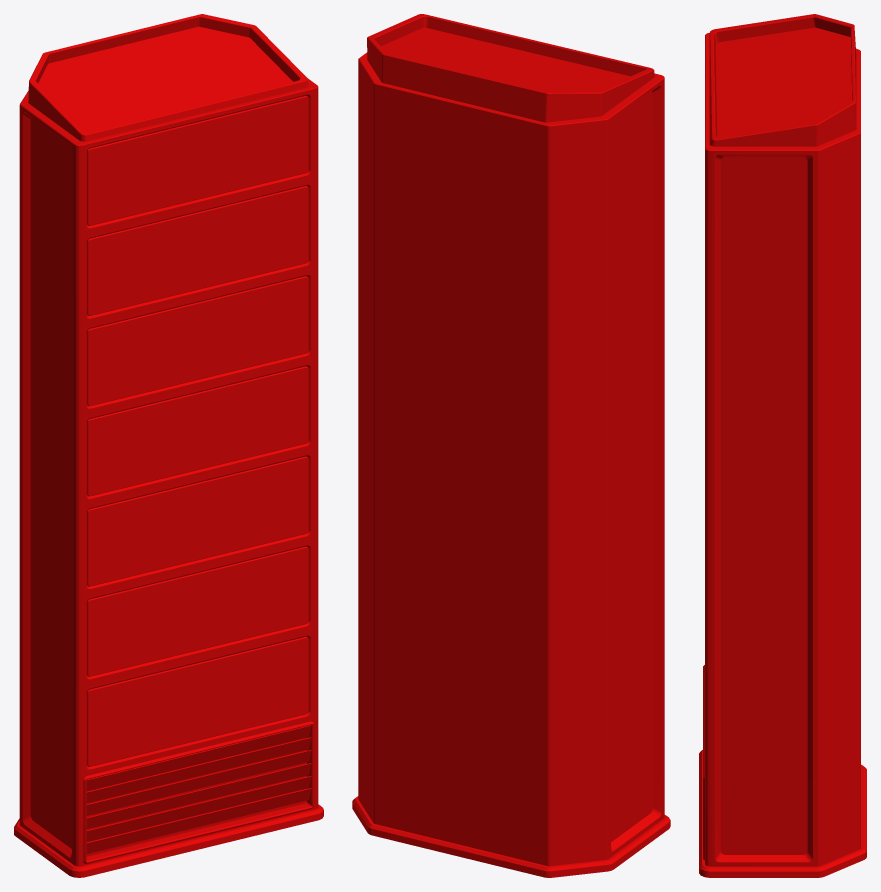
The model's file is Equipment_13.fbx.
The picture shows the model from 3 angles, left to right: view 1: azimuth 30°, elevation 25°; view 2: azimuth 150°, elevation 25°; view 3: azimuth 270°, elevation 25°; orthographic projection. The views are drawn at different scales.
Parts seen in each view (by area): view 1: L4:pCube111; view 2: L4:pCube111; view 3: L4:pCube111.
Boxes of the visible parts, <box> form: L4:pCube111: <box>14,14,323,877</box>; L4:pCube111: <box>352,14,670,877</box>; L4:pCube111: <box>699,14,866,877</box>.
Bounding box in the file's own units: 81.49 × 233 × 47.02.
